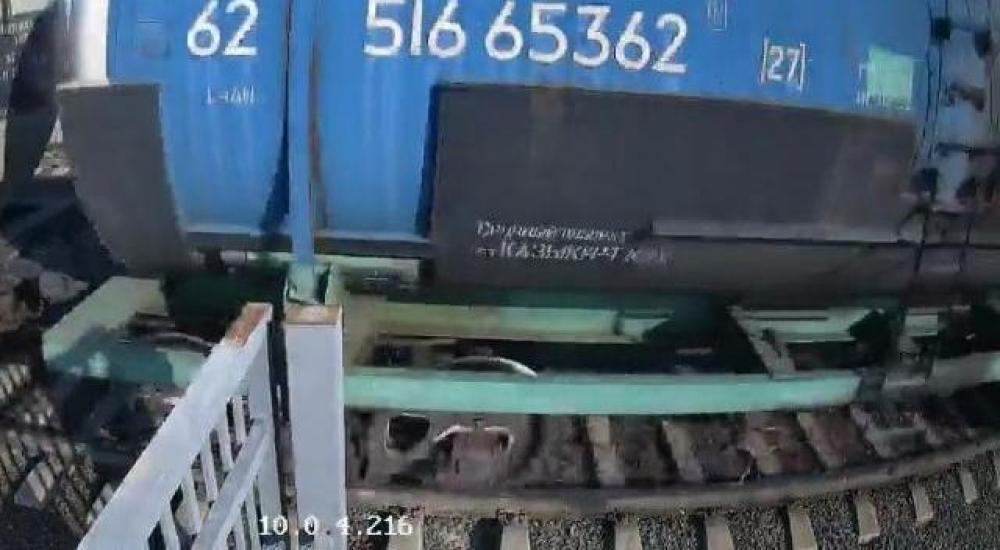Wagon-number: (360, 0, 691, 79)
